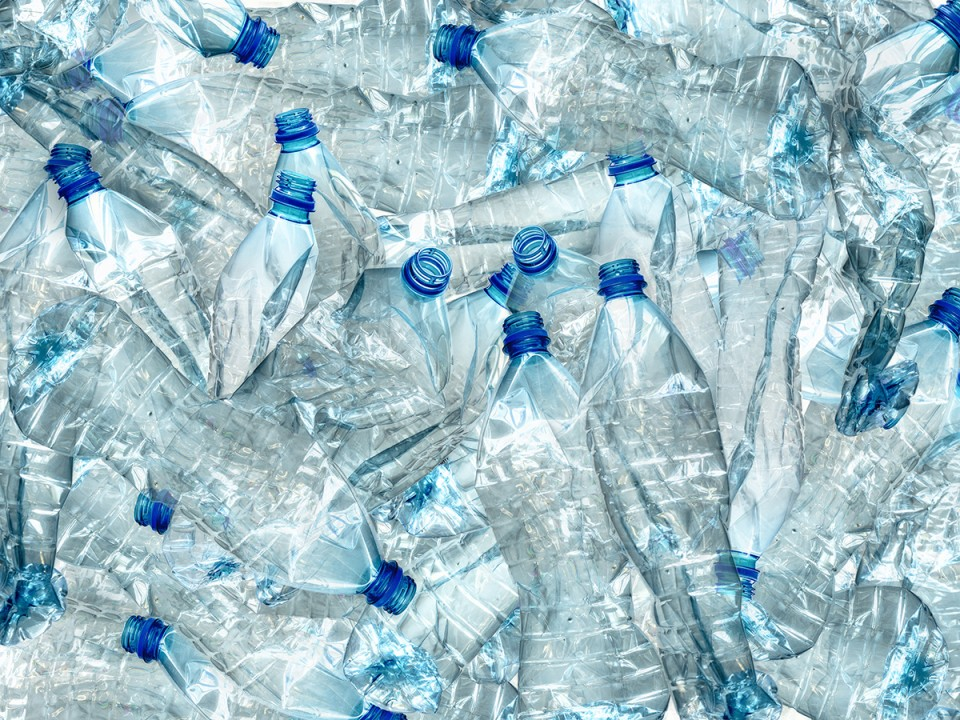plastic_bottle: (27, 300, 486, 664), (78, 415, 613, 691), (15, 68, 312, 513), (407, 12, 903, 271), (562, 226, 813, 719), (455, 295, 745, 720), (150, 30, 451, 405), (38, 523, 585, 720), (305, 219, 508, 567), (780, 5, 960, 396), (787, 187, 960, 517), (213, 79, 478, 271), (9, 2, 367, 125)
